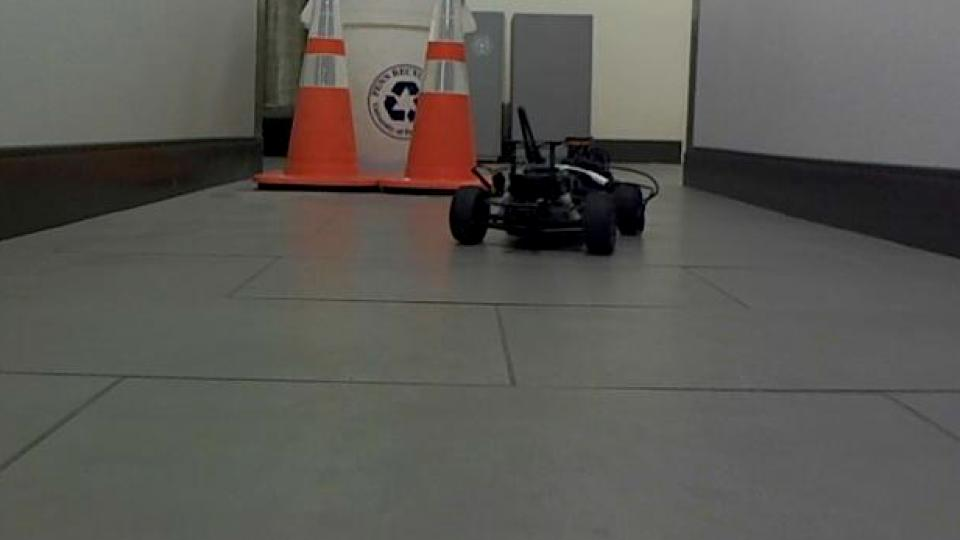car: (448, 105, 662, 258)
